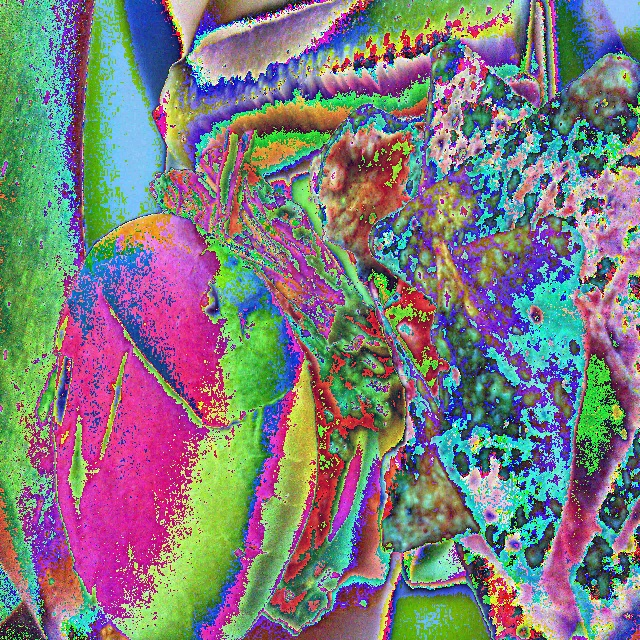background: (36, 0, 639, 640)
